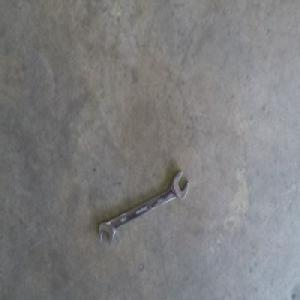Wrench: (98, 170, 189, 245)
